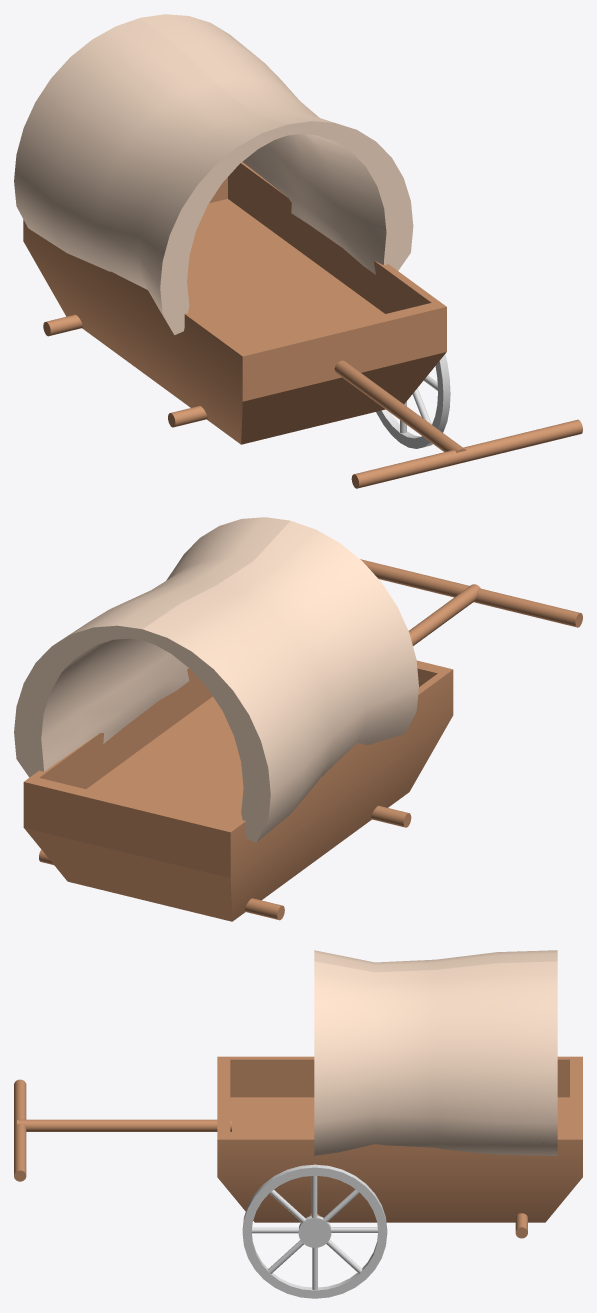
The model's file is Chariot.fbx.
3 views of the same model, one above another, from view 1: azimuth 30°, elevation 25°; view 2: azimuth 150°, elevation 25°; view 3: azimuth 270°, elevation 25° (orthographic). The views are drawn at different scales.
Visible parts, largest first — view 1: Chariot, Wheel; view 2: Chariot; view 3: Chariot, Wheel.
Part boxes in pixels (x1,y1,x2,y2): Chariot: (14, 14, 582, 488); Wheel: (376, 354, 450, 448); Chariot: (14, 517, 582, 921); Chariot: (14, 950, 582, 1238); Wheel: (242, 1164, 387, 1298).
Bounding box in the file's own units: 821 × 1073 × 1919.
Materials: 1 (1 with a texture image).
